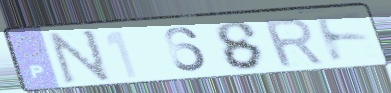1: (104, 30, 140, 79)
6: (163, 26, 210, 75)
8: (213, 20, 268, 72)
F: (311, 11, 373, 66)
N: (47, 28, 114, 86)
R: (260, 15, 328, 70)
